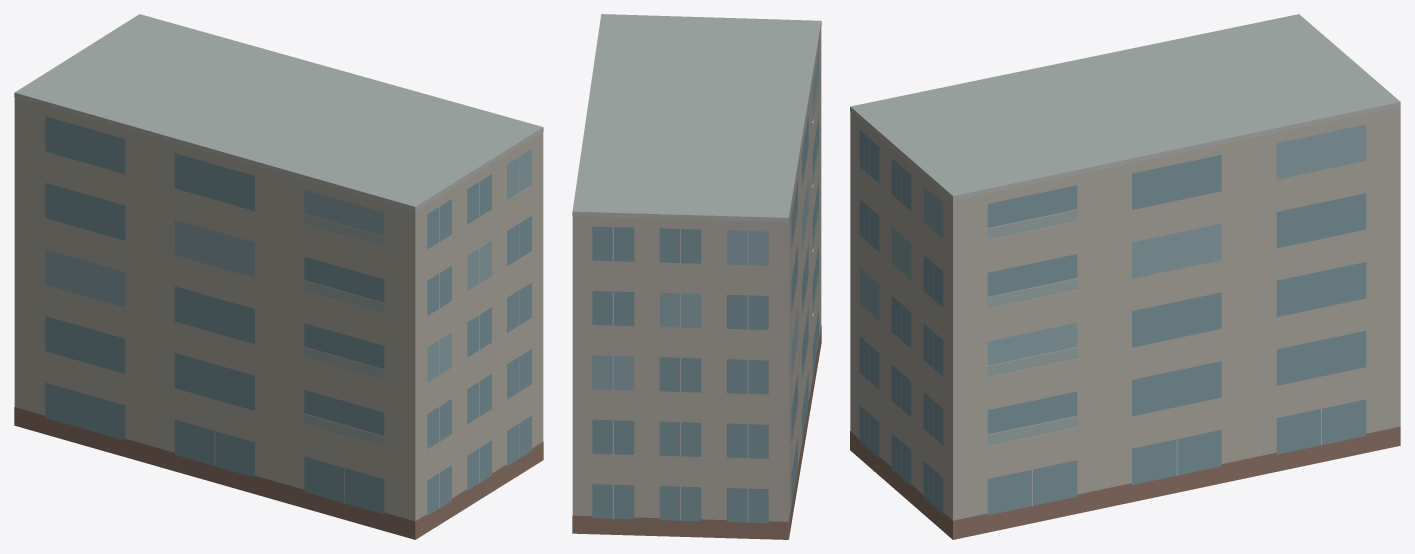
File: survey-upis-32985527.glb
3 renders of one model, left to right at view 1: azimuth 30°, elevation 25°; view 2: azimuth 150°, elevation 25°; view 3: azimuth 270°, elevation 25°, orthographic. The views are drawn at different scales.
Parts seen in each view (by area): view 1: survey-upis-32985527.tmp; view 2: survey-upis-32985527.tmp; view 3: survey-upis-32985527.tmp.
Part boxes in pixels (x1=…): survey-upis-32985527.tmp: x1=14, y1=14, x2=543, y2=539; survey-upis-32985527.tmp: x1=572, y1=14, x2=821, y2=539; survey-upis-32985527.tmp: x1=850, y1=14, x2=1400, y2=539.
Size of the model in its own units: 19.55 by 17.2 by 24.97.
